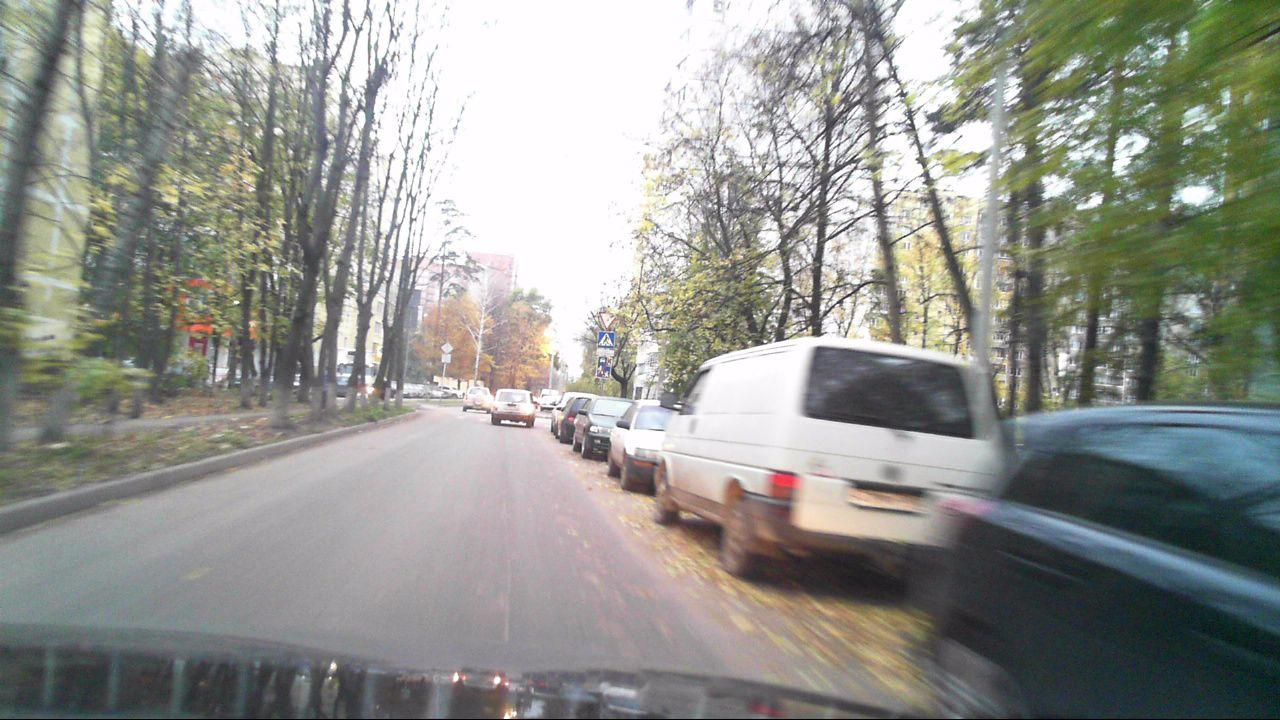2_4: (597, 311, 615, 329)
5_19_1: (596, 330, 617, 348)
5_22: (595, 358, 611, 379)
